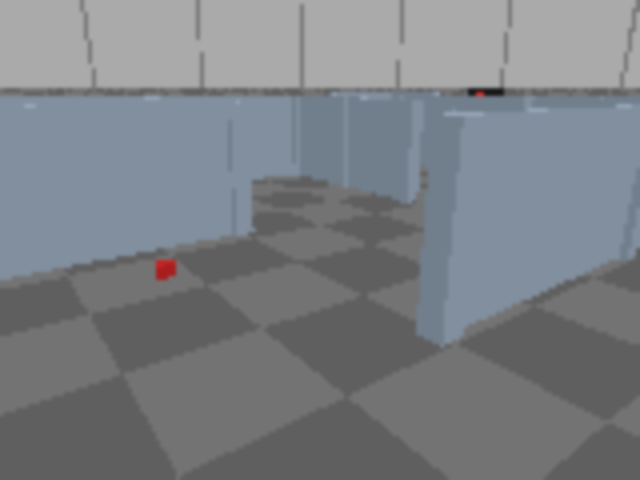puck: (155, 258, 177, 279)
